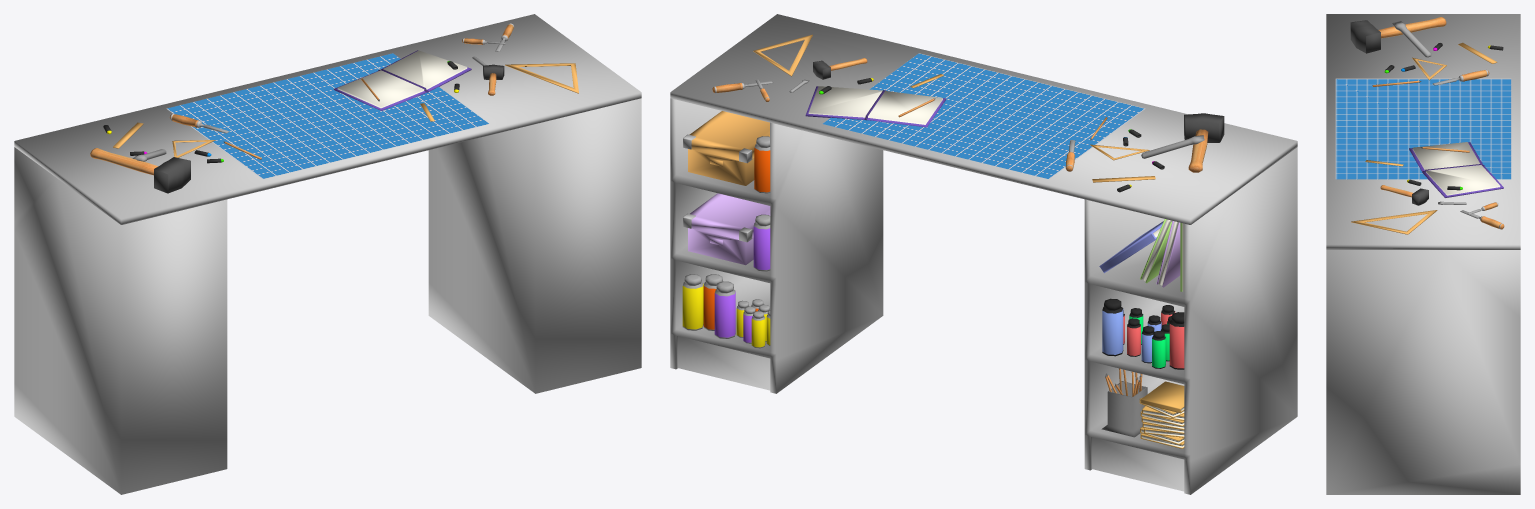
File: DeskSculpteur.fbx
3 views of the same model, side by side, from view 1: azimuth 30°, elevation 25°; view 2: azimuth 150°, elevation 25°; view 3: azimuth 270°, elevation 25° (orthographic). The views are drawn at different scales.
Visible parts, largest first — view 1: Desk.090, Desk.083, Desk.067, Desk.064, Desk.063; view 2: Desk.090, Desk.083, Desk.033, Desk.034, Desk.067, Desk.082, Desk.014, Desk.006, Desk.022, Desk.095, Desk.015, Desk.062 (+6 smaller); view 3: Desk.090, Desk.083, Desk.067, Desk.064, Desk.085, Desk.063, Desk.088, Desk.037, Desk.035, Desk.066.
Boxes of the visible parts, x1,y1,x2,y2 form: Desk.090: [14, 14, 641, 494]; Desk.083: [166, 53, 489, 179]; Desk.067: [333, 50, 471, 110]; Desk.064: [154, 157, 190, 193]; Desk.063: [90, 148, 157, 175]; Desk.090: [670, 14, 1297, 494]; Desk.083: [822, 53, 1145, 179]; Desk.033: [683, 111, 769, 185]; Desk.034: [683, 193, 770, 265]; Desk.067: [805, 86, 946, 127]; Desk.082: [1101, 381, 1147, 437]; Desk.014: [714, 281, 735, 338]; Desk.006: [1102, 298, 1123, 356]; Desk.022: [682, 274, 703, 330]; Desk.095: [1156, 221, 1180, 287]; Desk.015: [753, 214, 770, 271]; Desk.062: [1141, 381, 1184, 413]; Desk.090: [1326, 14, 1520, 494]; Desk.083: [1335, 78, 1511, 179]; Desk.067: [1409, 142, 1503, 197]; Desk.064: [1350, 20, 1380, 53]; Desk.085: [1351, 210, 1437, 234]; Desk.063: [1378, 17, 1446, 38]; Desk.088: [1392, 21, 1431, 57]; Desk.037: [1432, 69, 1489, 85]; Desk.035: [1460, 210, 1504, 229]; Desk.066: [1412, 188, 1428, 205].
Size of the model in its own units: 217 by 118 by 77.06.
